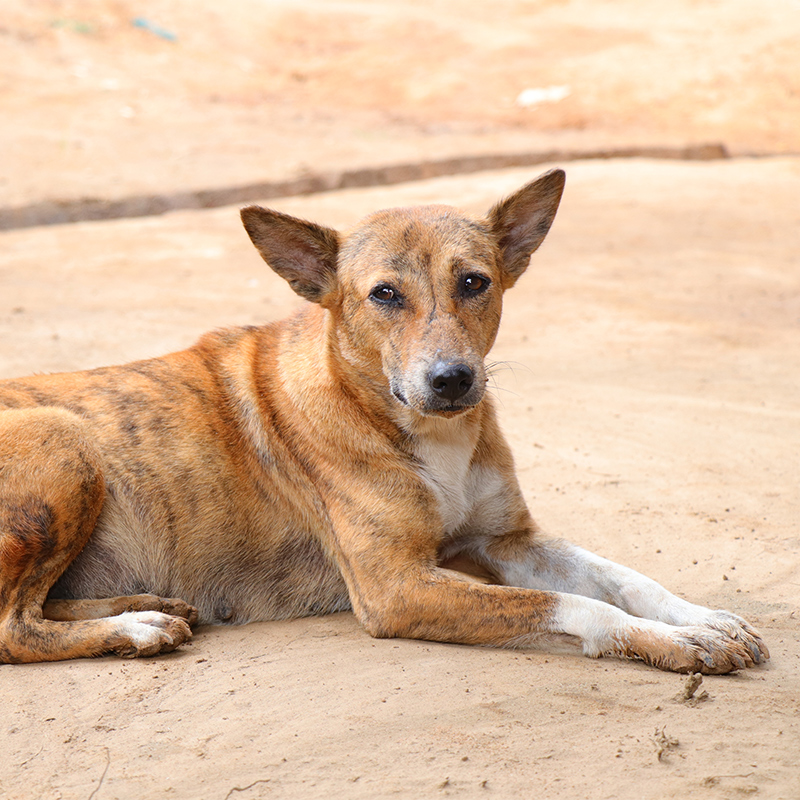Dog: (8, 178, 779, 688)
